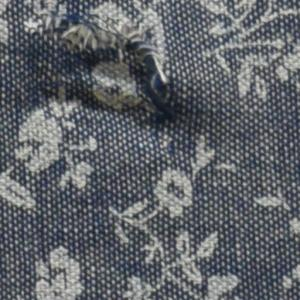Damage: (25, 1, 181, 129)
